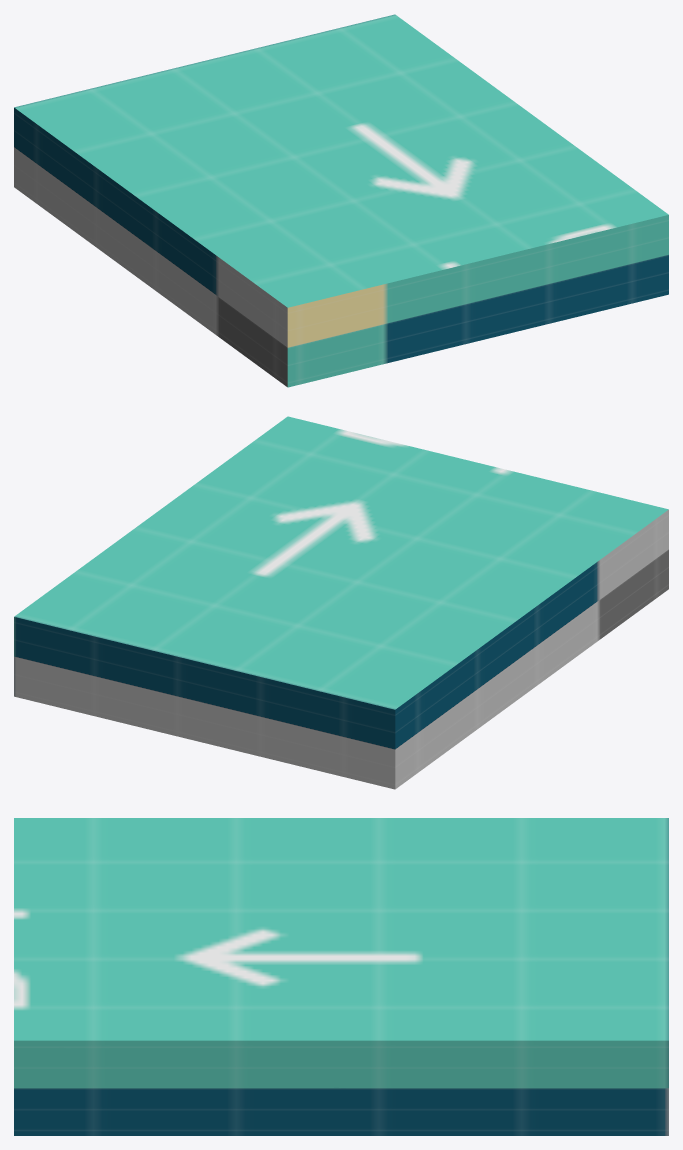
Rendered from tablet.glb.
3 views of the same model, one above another, from view 1: azimuth 30°, elevation 25°; view 2: azimuth 150°, elevation 25°; view 3: azimuth 270°, elevation 25° (orthographic). The views are drawn at different scales.
Parts seen in each view (by area): view 1: col_tablet; view 2: col_tablet; view 3: col_tablet.
Part boxes in pixels (<box>): col_tablet: <box>14,14,668,387</box>; col_tablet: <box>14,416,668,789</box>; col_tablet: <box>14,818,668,1135</box>.
Size of the model in its own units: 0.2438 by 0.0488 by 0.3033.
1 material, 1 textured.
